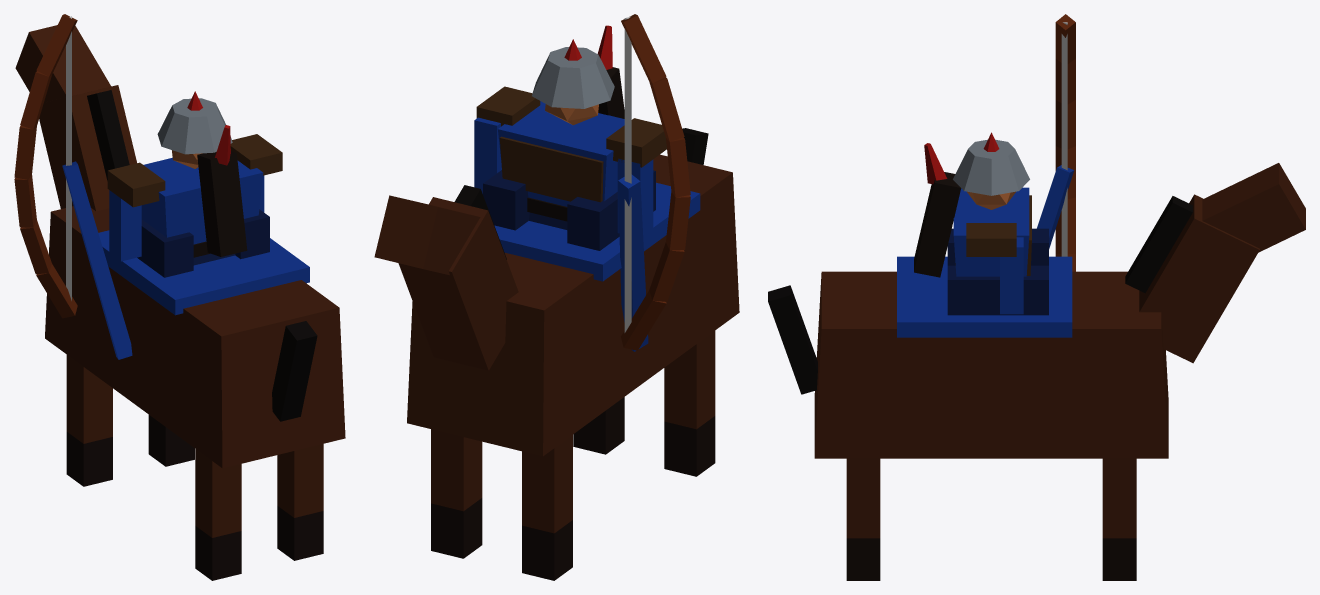
The model's file is unit_mounted_archer.glb.
The picture shows the model from 3 angles, left to right: view 1: azimuth 30°, elevation 25°; view 2: azimuth 150°, elevation 25°; view 3: azimuth 270°, elevation 25°; orthographic projection. The views are drawn at different scales.
Visible parts, largest first — view 1: UNIT_mounted_archer_ally; view 2: UNIT_mounted_archer_ally; view 3: UNIT_mounted_archer_ally.
Part boxes in pixels (x1,y1,x2,y2): UNIT_mounted_archer_ally: [14, 14, 345, 580]; UNIT_mounted_archer_ally: [374, 14, 739, 580]; UNIT_mounted_archer_ally: [768, 14, 1305, 580].
Bounding box in the file's own units: 0.7448 × 1.61 × 1.6.
